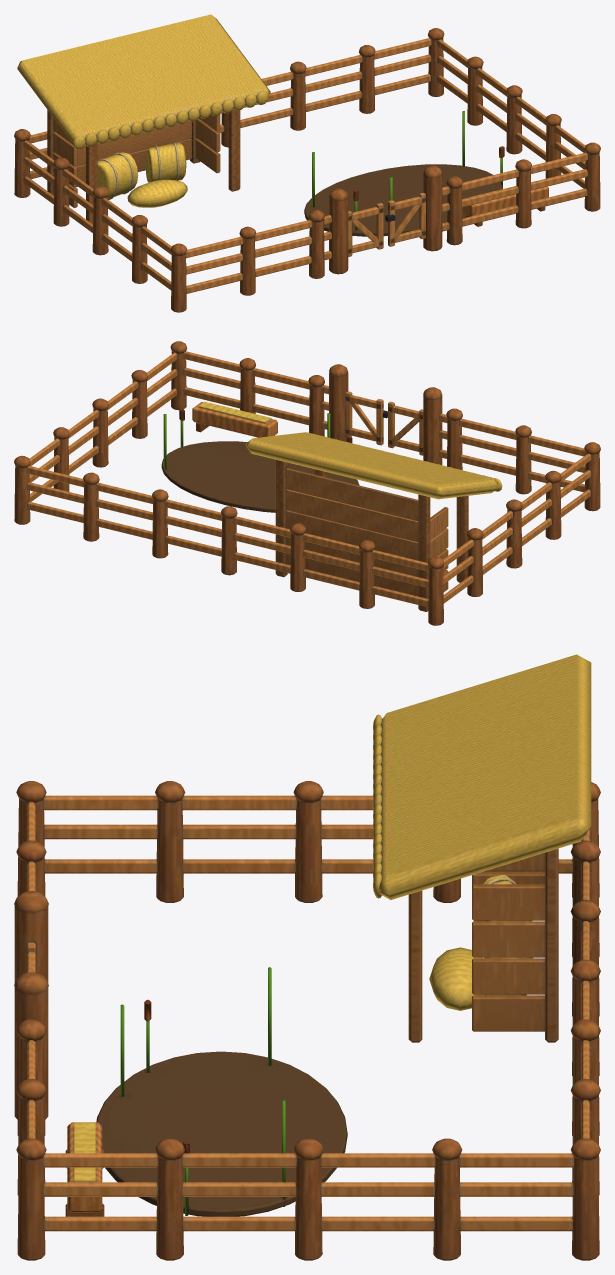
Rendered from buffalo_wallow.glb.
3 renders of one model, top to bottom at view 1: azimuth 30°, elevation 25°; view 2: azimuth 150°, elevation 25°; view 3: azimuth 270°, elevation 25°, orthographic. The views are drawn at different scales.
Visible parts, largest first — view 1: buffalo_wallow, gate1, gate0; view 2: buffalo_wallow, gate1, gate0; view 3: buffalo_wallow.
Part boxes in pixels (x1,y1,x2,y2): buffalo_wallow: [14, 14, 600, 312]; gate1: [385, 192, 425, 246]; gate0: [348, 203, 383, 256]; buffalo_wallow: [14, 341, 600, 625]; gate1: [345, 391, 387, 445]; gate0: [388, 401, 423, 455]; buffalo_wallow: [14, 654, 600, 1260].
Size of the model in its own units: 3 by 0.9714 by 2.01.
Materials: 1 (1 with a texture image).
